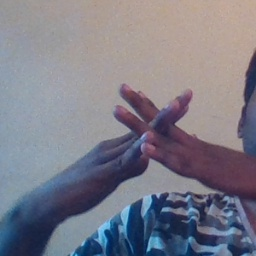W: (95, 75, 205, 195)
